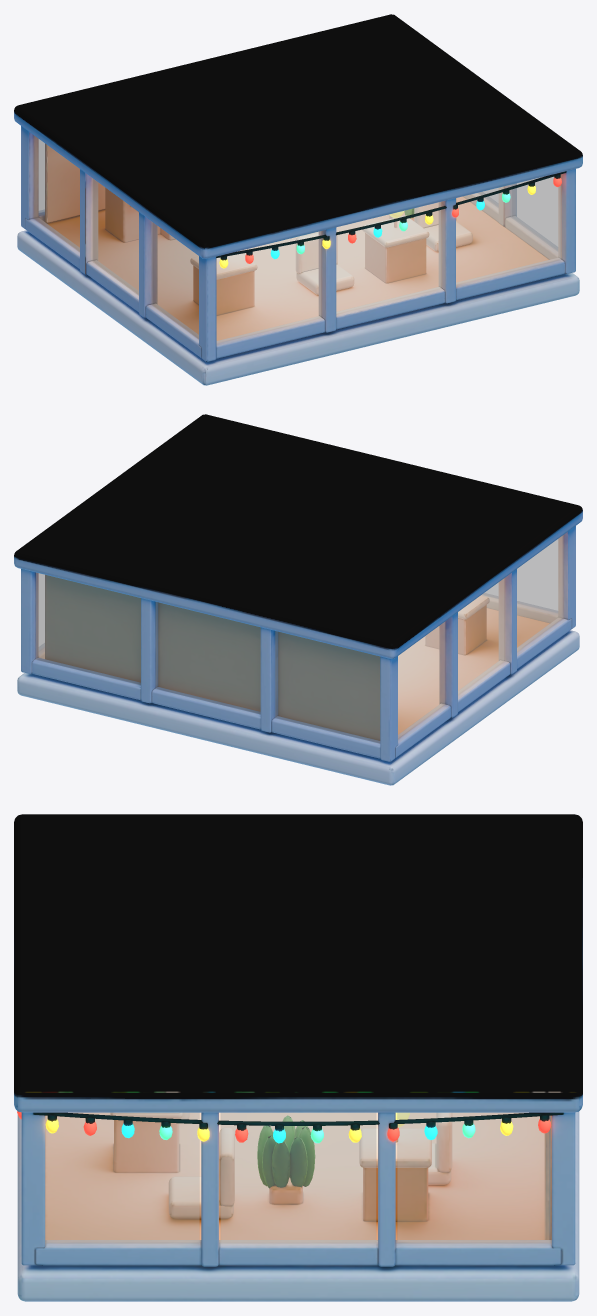
The model's file is winter-floor.glb.
3 views of the same model, one above another, from view 1: azimuth 30°, elevation 25°; view 2: azimuth 150°, elevation 25°; view 3: azimuth 270°, elevation 25° (orthographic). The views are drawn at different scales.
Parts seen in each view (by area): view 1: Baked_floor, FloorBody • Windows • clear thin glass; view 2: Baked_floor, FloorBody • Windows • clear thin glass; view 3: Baked_floor, FloorBody • Windows • clear thin glass, FloorBody • Garland • ruby.
Boxes of the visible parts, x1,y1,x2,y2 form: Baked_floor: (14,14,582,385); FloorBody • Windows • clear thin glass: (33,135,560,343); Baked_floor: (14,414,582,785); FloorBody • Windows • clear thin glass: (36,535,563,743); Baked_floor: (14,814,582,1301); FloorBody • Windows • clear thin glass: (45,1113,551,1243); FloorBody • Garland • ruby: (17,1111,551,1142).
Size of the model in its own units: 3.72 by 1.35 by 3.22.
7 materials, 1 textured.
